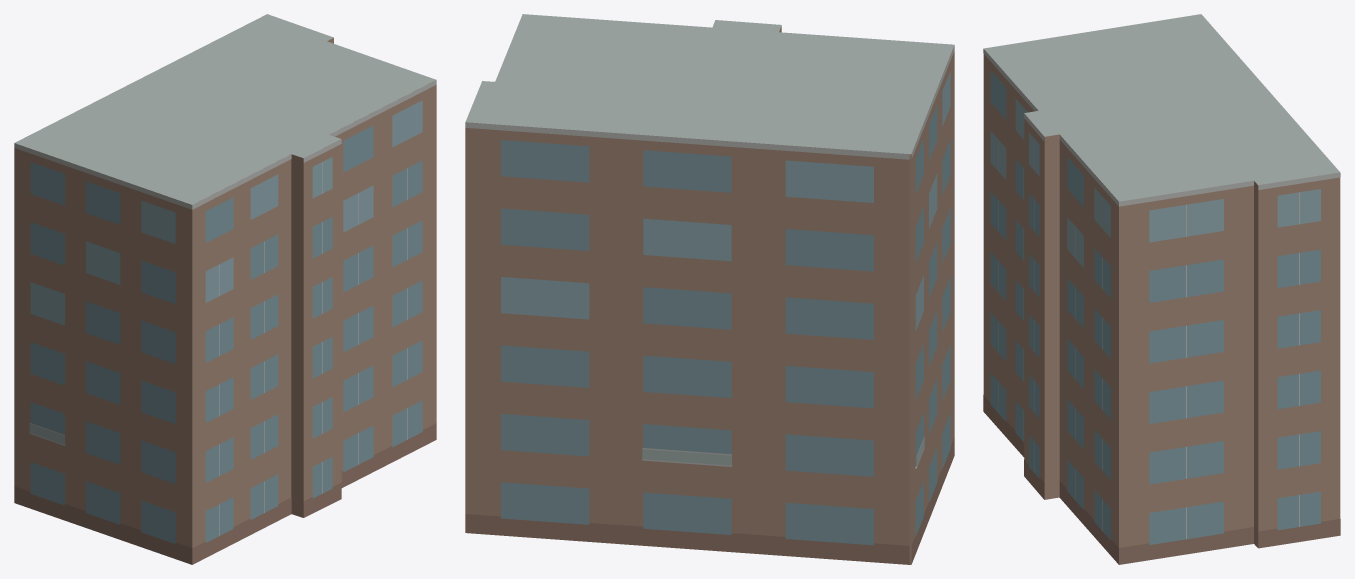
Rendered from survey-upis-32709116.glb.
3 views of the same model, side by side, from view 1: azimuth 30°, elevation 25°; view 2: azimuth 150°, elevation 25°; view 3: azimuth 270°, elevation 25° (orthographic). The views are drawn at different scales.
Visible parts, largest first — view 1: survey-upis-32709116.tmp; view 2: survey-upis-32709116.tmp; view 3: survey-upis-32709116.tmp.
Part boxes in pixels (x1=…): survey-upis-32709116.tmp: x1=14, y1=14, x2=436, y2=564; survey-upis-32709116.tmp: x1=465, y1=14, x2=954, y2=564; survey-upis-32709116.tmp: x1=983, y1=14, x2=1340, y2=564.
Bounding box in the file's own units: 20.08 × 18.1 × 16.14.
